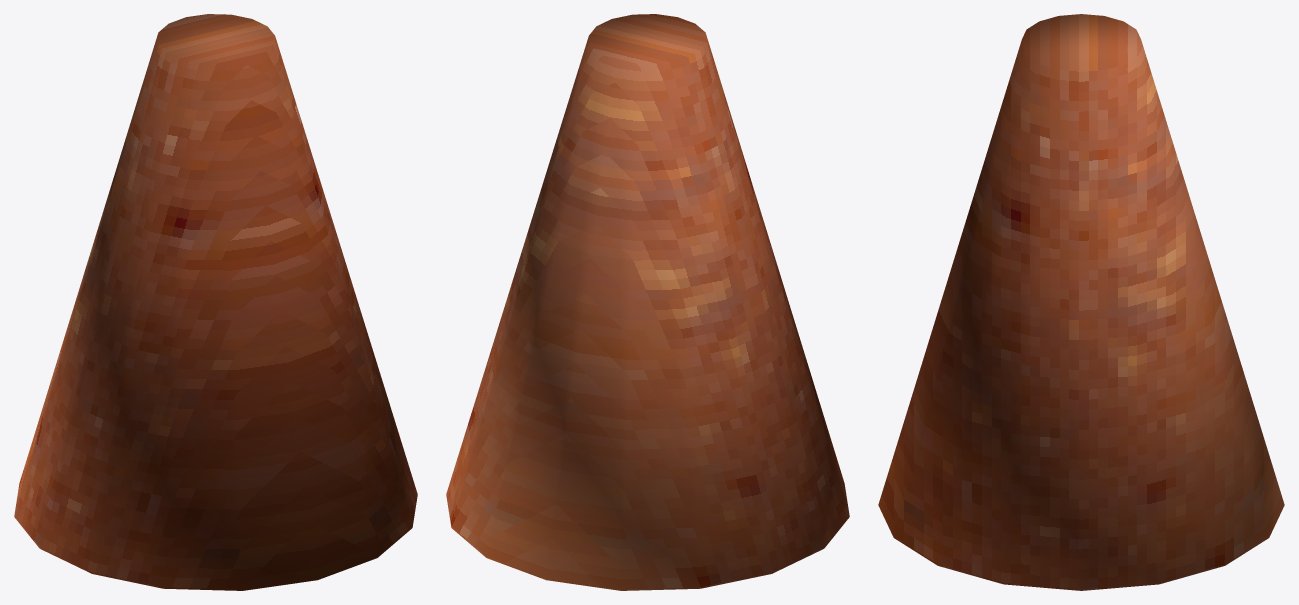
The model's file is AL_Piloncillo_Static.fbx.
3 renders of one model, left to right at view 1: azimuth 30°, elevation 25°; view 2: azimuth 150°, elevation 25°; view 3: azimuth 270°, elevation 25°, orthographic.
Visible parts, largest first — view 1: Cylinder; view 2: Cylinder; view 3: Cylinder.
Part boxes in pixels (x1=…): Cylinder: x1=14, y1=14, x2=417, y2=590; Cylinder: x1=446, y1=14, x2=849, y2=590; Cylinder: x1=878, y1=14, x2=1284, y2=590.
Size of the model in its own units: 0.1706 by 0.2158 by 0.1706.
